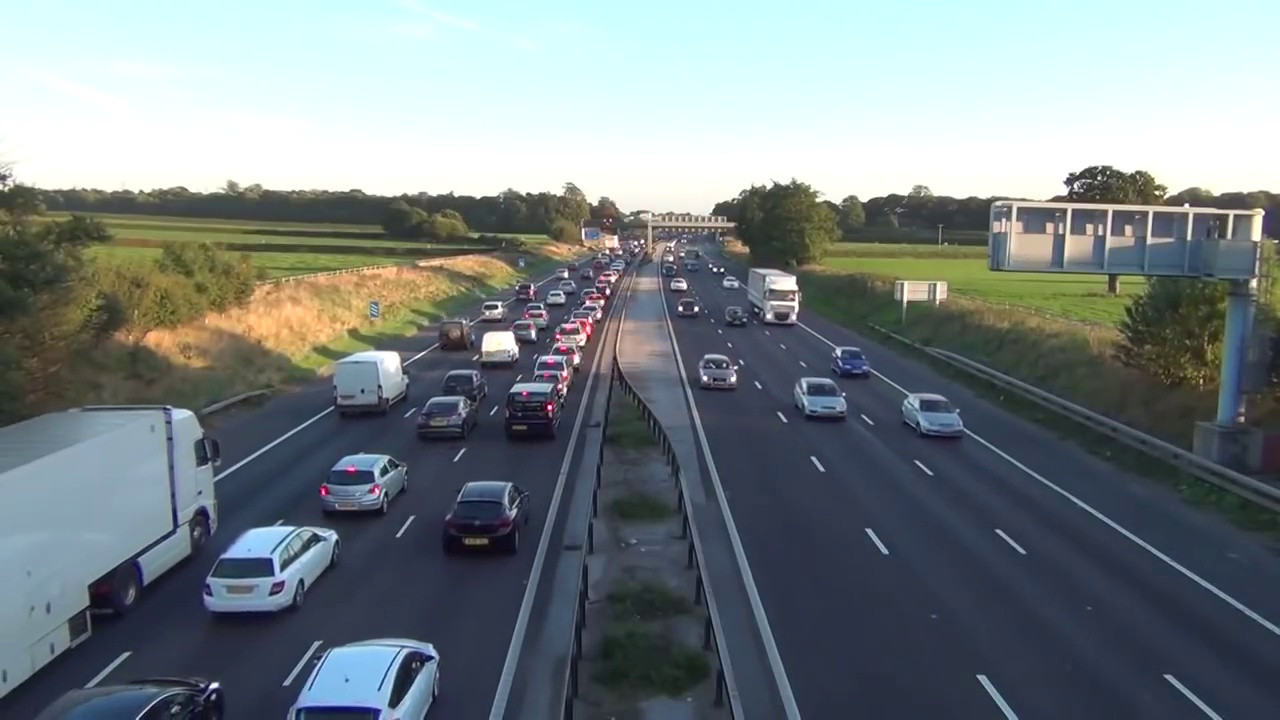car: (0, 405, 221, 700), (283, 637, 441, 720), (28, 654, 226, 720), (201, 522, 341, 614), (34, 677, 225, 720), (441, 480, 523, 553), (332, 349, 409, 422), (319, 452, 408, 514), (503, 379, 559, 442), (747, 266, 801, 325), (902, 392, 964, 437), (415, 394, 474, 438), (758, 269, 801, 326), (794, 376, 848, 419), (477, 331, 521, 368), (697, 352, 739, 390), (832, 346, 870, 378), (673, 294, 702, 318)
